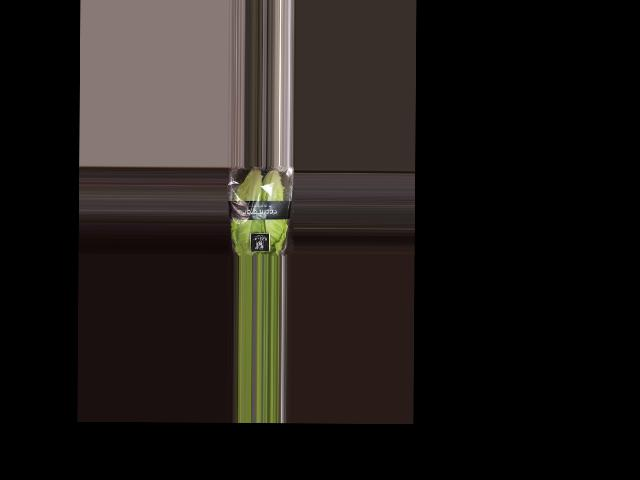lettuce: (232, 165, 293, 255)
